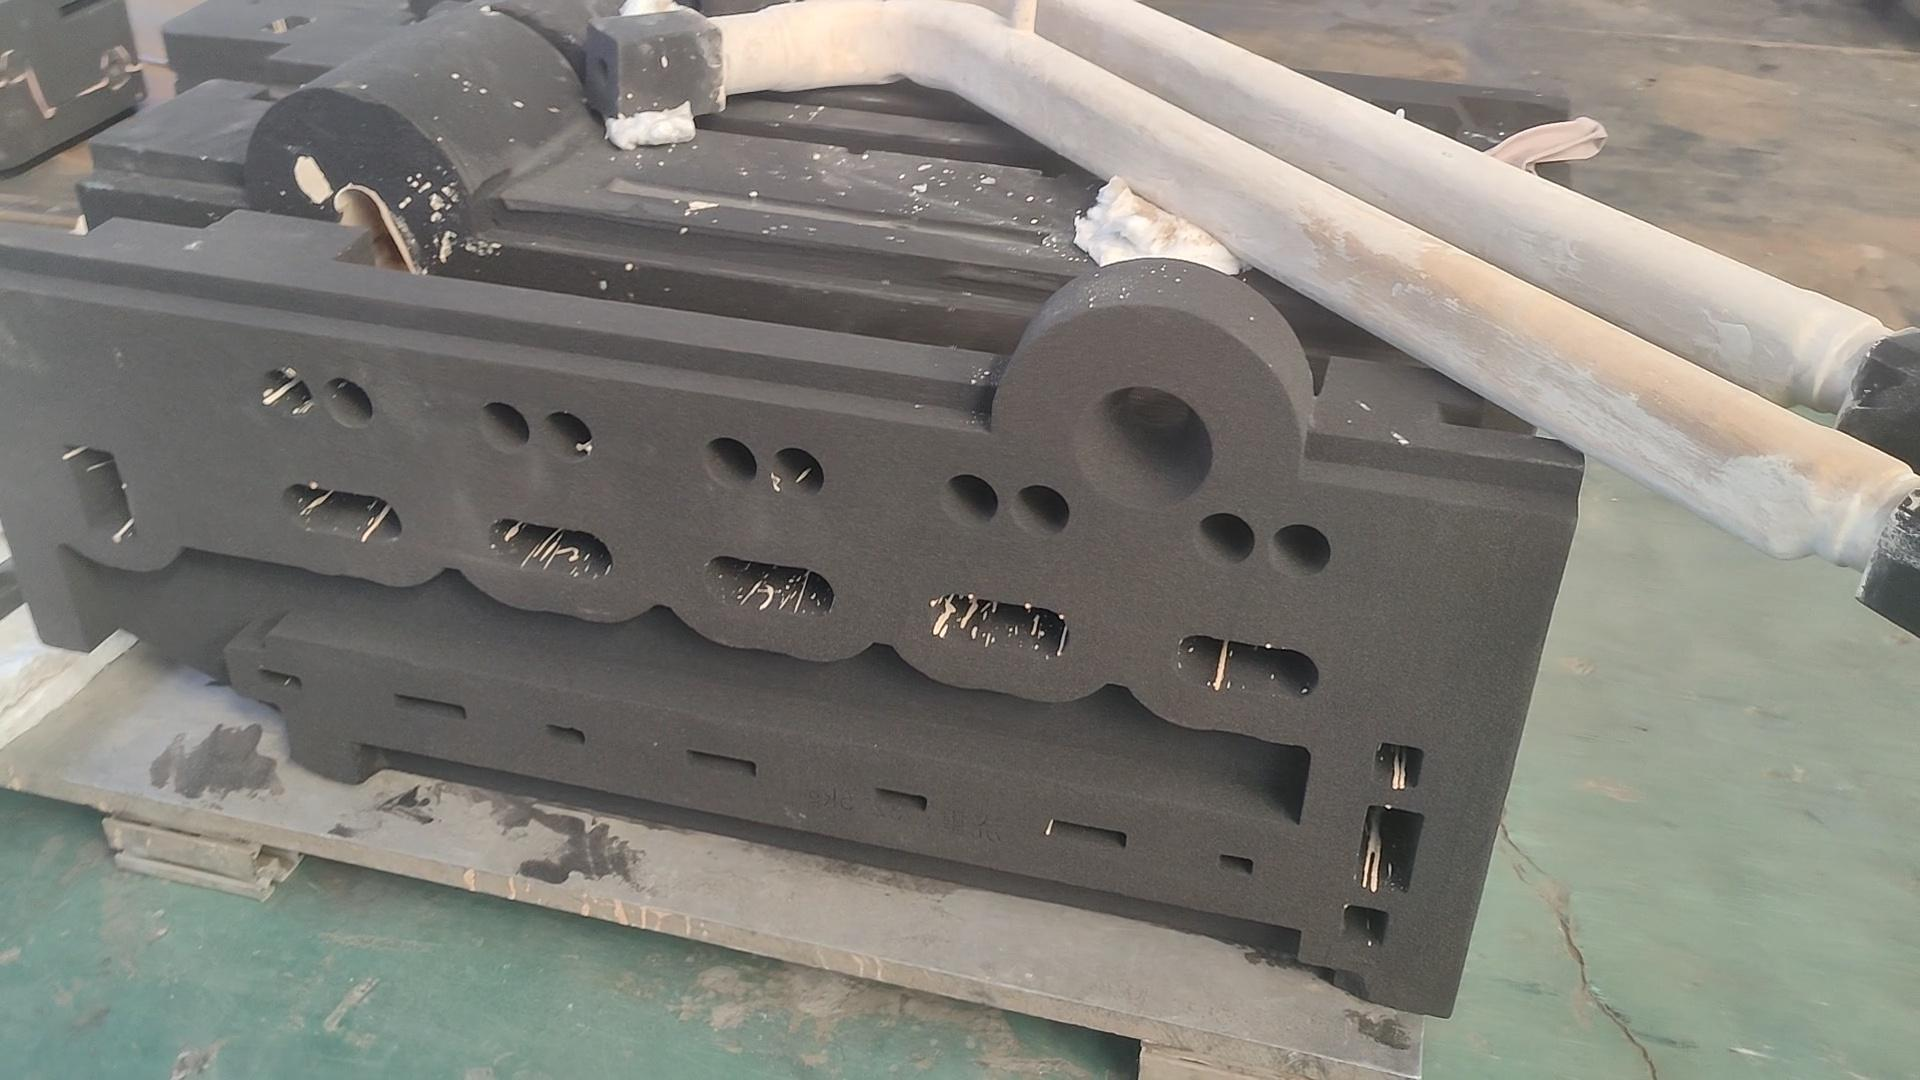pouring hole: (1071, 386, 1215, 512)
